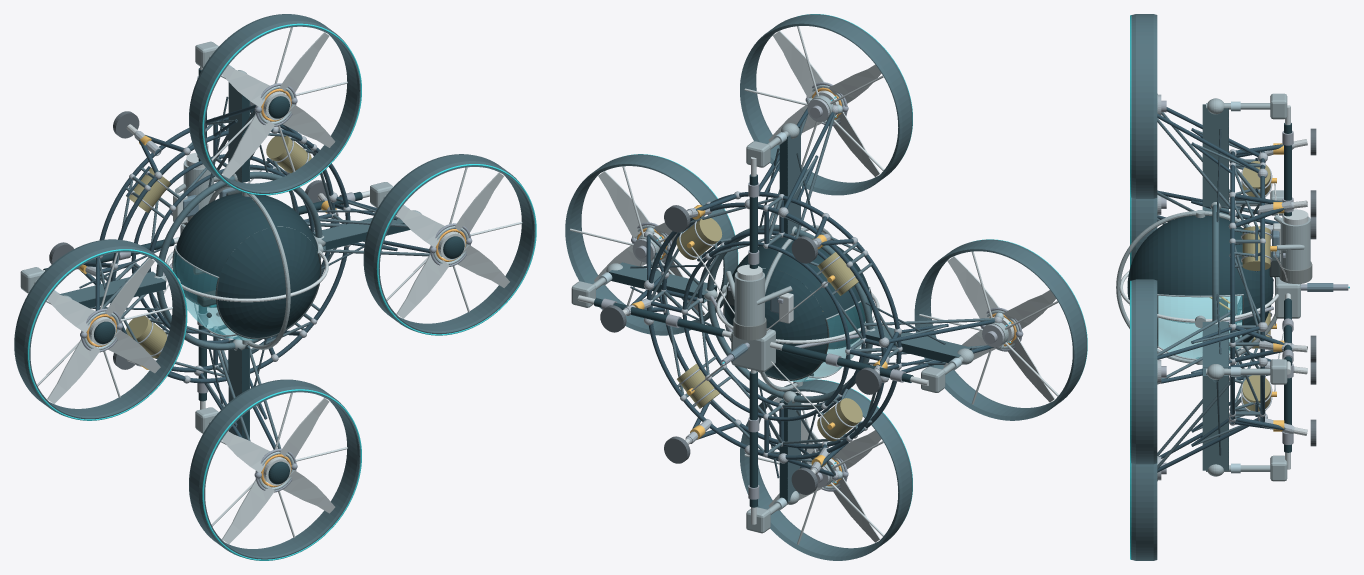
The model's file is airframe-live.glb.
3 views of the same model, side by side, from view 1: azimuth 30°, elevation 25°; view 2: azimuth 150°, elevation 25°; view 3: azimuth 270°, elevation 25° (orthographic).
Visible parts, largest first — view 1: P04 | CFRP upper spherical sandwich.001, P02 | F1 open annular duct.001, P02 | F3 open annular duct.001, P02 | F2 open annular duct.001, P02 | F4 open annular duct.001, P04 | Aft CFRP belt west.001, V4 P06 | UPPER outer compression ring.001, P06 | Carbon ring R=1.190m.001, P04 | Segmented laminated window 1.001, P04 | Aft CFRP belt east.001, V4 P06 | LOWER outer load ring.001, P02 | F2 blade 4.001 (+31 smaller); view 2: P02 | F2 open annular duct.001, P02 | F3 open annular duct.001, P02 | F4 open annular duct.001, P02 | F1 open annular duct.001, P04 | CFRP lower spherical sandwich.001, V4 P06 | LOWER outer load ring.001, V4 P06 | UPPER outer compression ring.001, V4 P06 | LOWER inner pressure ring.001, P06 | Carbon ring R=1.190m.001, P04 | Aft CFRP belt west.001, P01 | M250 C30P class turboshaft schematic.001, V4 P06 | UPPER inner load ring.001 (+25 smaller); view 3: P04 | Aft CFRP belt east.001, P02 | F1 open annular duct.001, P02 | F2 open annular duct.001, P04 | Segmented laminated window 3.001, P02 | F4 open annular duct.001, P06 | F2 spar side skin.003, P06 | F4 spar side skin.003, P01 | M250 C30P class turboshaft schematic.001, P05 | Outer pitch ring YZ.001, P04 | Segmented laminated window 1.001, P04 | Segmented laminated window 2.001, P04 | CFRP upper spherical sandwich.001 (+30 smaller).
Part boxes in pixels (<box>): P04 | CFRP upper spherical sandwich.001: <box>217,227,319,337</box>; P02 | F1 open annular duct.001: <box>363,154,535,334</box>; P02 | F3 open annular duct.001: <box>14,239,185,419</box>; P02 | F2 open annular duct.001: <box>189,14,360,193</box>; P02 | F4 open annular duct.001: <box>189,379,360,559</box>; P04 | Aft CFRP belt west.001: <box>176,194,268,276</box>; V4 P06 | UPPER outer compression ring.001: <box>111,128,350,383</box>; P06 | Carbon ring R=1.190m.001: <box>156,171,322,350</box>; P04 | Segmented laminated window 1.001: <box>173,251,234,334</box>; P04 | Aft CFRP belt east.001: <box>233,193,317,252</box>; V4 P06 | LOWER outer load ring.001: <box>99,117,335,372</box>; P02 | F2 blade 4.001: <box>222,113,274,178</box>; P02 | F2 open annular duct.001: <box>740,14,912,195</box>; P02 | F3 open annular duct.001: <box>914,239,1087,420</box>; P02 | F4 open annular duct.001: <box>740,379,912,560</box>; P02 | F1 open annular duct.001: <box>565,154,737,335</box>; P04 | CFRP lower spherical sandwich.001: <box>725,268,827,379</box>; V4 P06 | LOWER outer load ring.001: <box>647,202,885,459</box>; V4 P06 | UPPER outer compression ring.001: <box>662,191,901,448</box>; V4 P06 | LOWER inner pressure ring.001: <box>682,241,850,421</box>; P06 | Carbon ring R=1.190m.001: <box>707,224,873,403</box>; P04 | Aft CFRP belt west.001: <box>776,245,868,318</box>; P01 | M250 C30P class turboshaft schematic.001: <box>734,272,764,326</box>; V4 P06 | UPPER inner load ring.001: <box>698,230,865,410</box>; P04 | Aft CFRP belt east.001: <box>1158,221,1242,295</box>; P02 | F1 open annular duct.001: <box>1131,279,1157,464</box>; P02 | F2 open annular duct.001: <box>1131,14,1157,198</box>; P04 | Segmented laminated window 3.001: <box>1158,296,1242,358</box>; P02 | F4 open annular duct.001: <box>1131,463,1157,560</box>; P06 | F2 spar side skin.003: <box>1202,108,1228,206</box>; P06 | F4 spar side skin.003: <box>1202,376,1228,470</box>; P01 | M250 C30P class turboshaft schematic.001: <box>1280,217,1310,270</box>; P05 | Outer pitch ring YZ.001: <box>1116,211,1277,363</box>; P04 | Segmented laminated window 1.001: <box>1159,296,1241,318</box>; P04 | Segmented laminated window 2.001: <box>1159,318,1241,358</box>; P04 | CFRP upper spherical sandwich.001: <box>1127,228,1157,305</box>.
Bounding box in the file's own units: 7.61 × 7.61 × 3.04.
